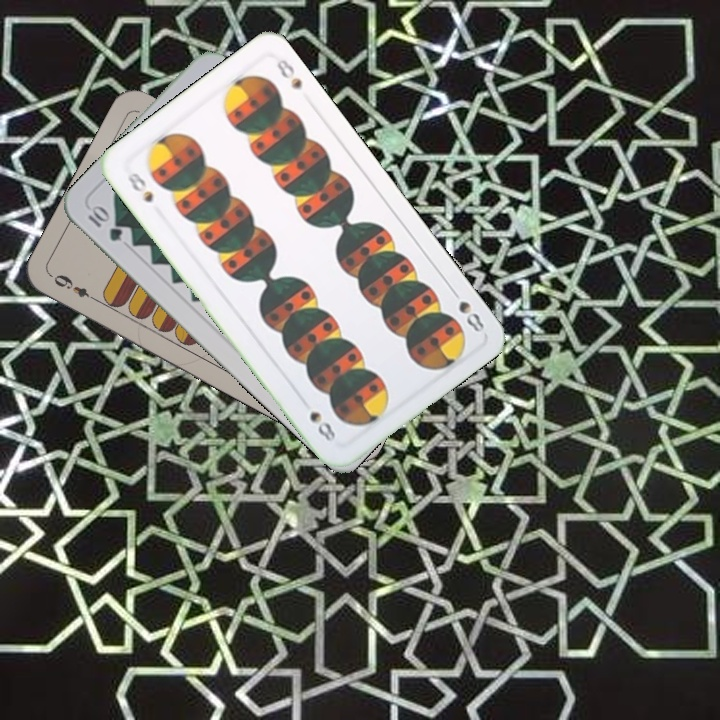E9: (49, 270, 102, 305)
G10: (83, 201, 125, 244)
S8: (446, 283, 487, 336), (120, 167, 156, 206)
